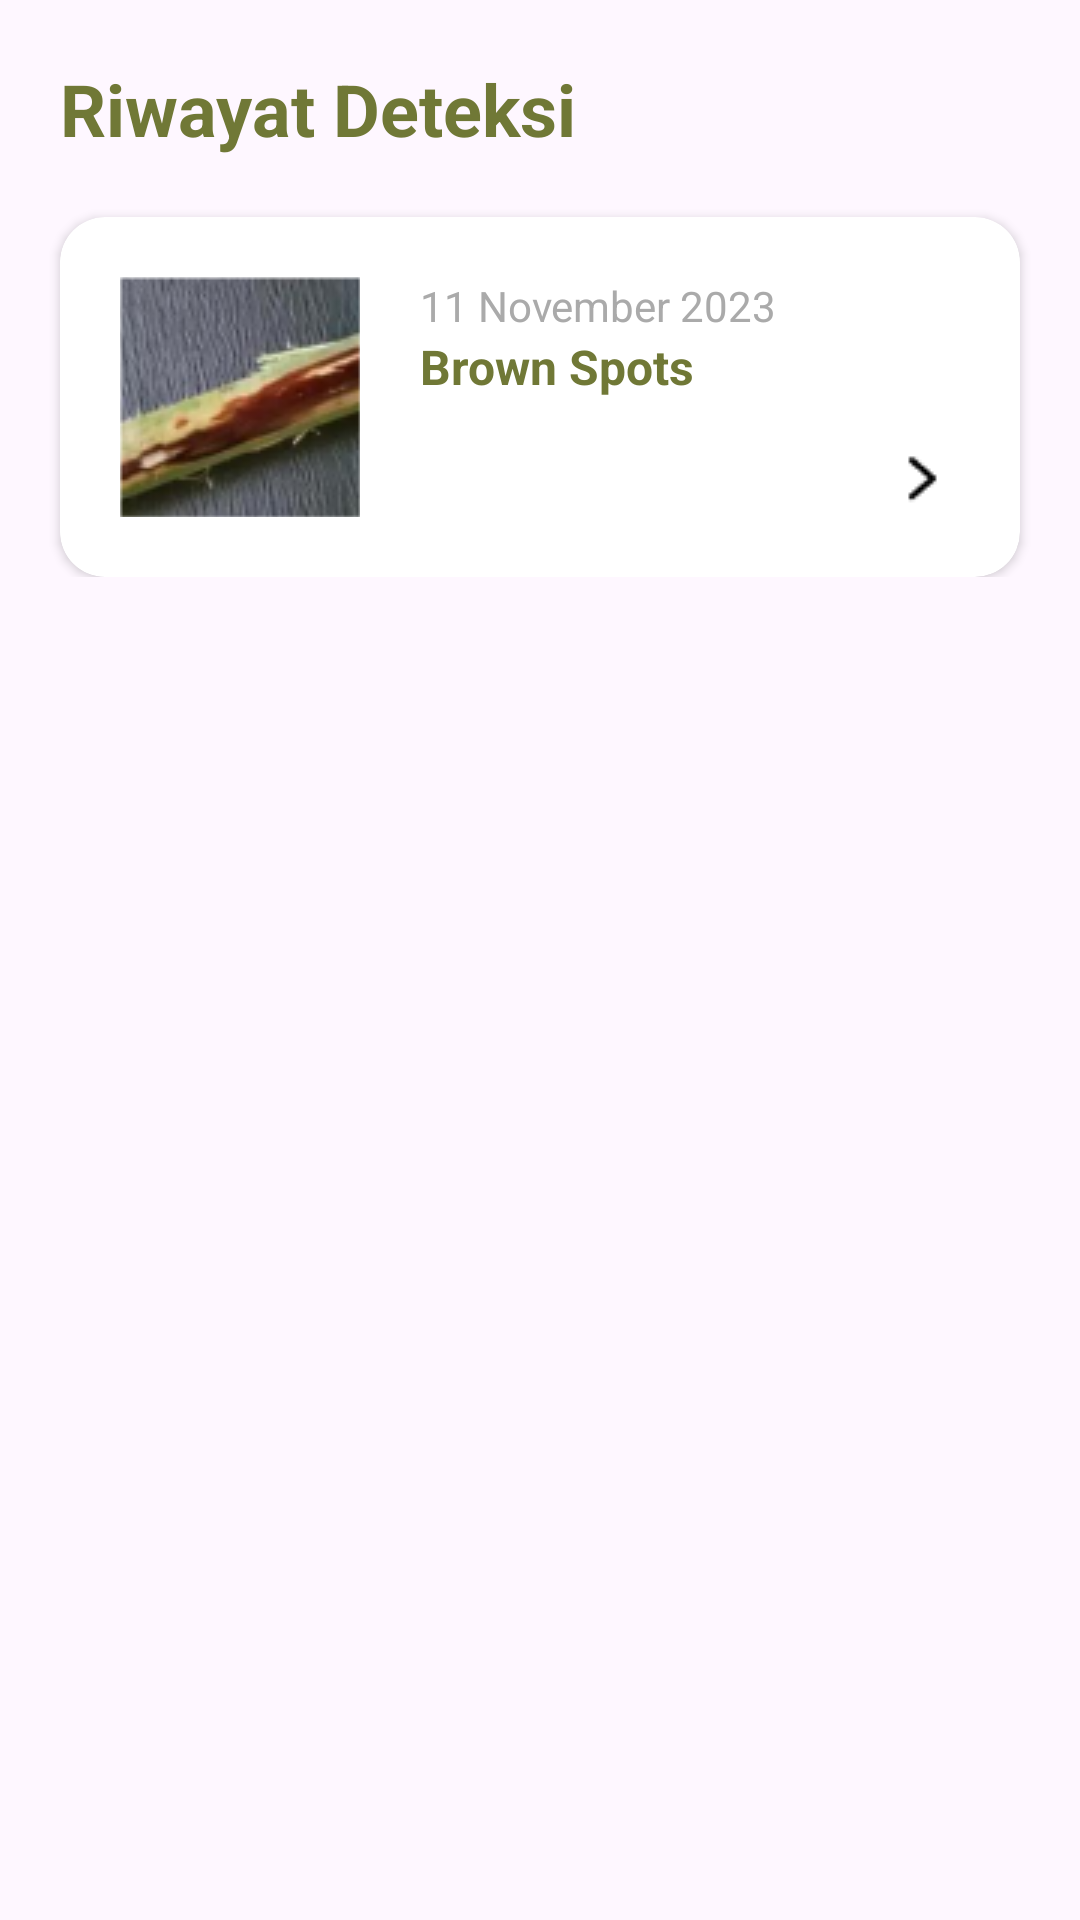

Icons on this 1080 × 1920 Android screen, each with its box as (x1, y1, x2, y2):
homescreen arrow history: (908, 456, 937, 501)
